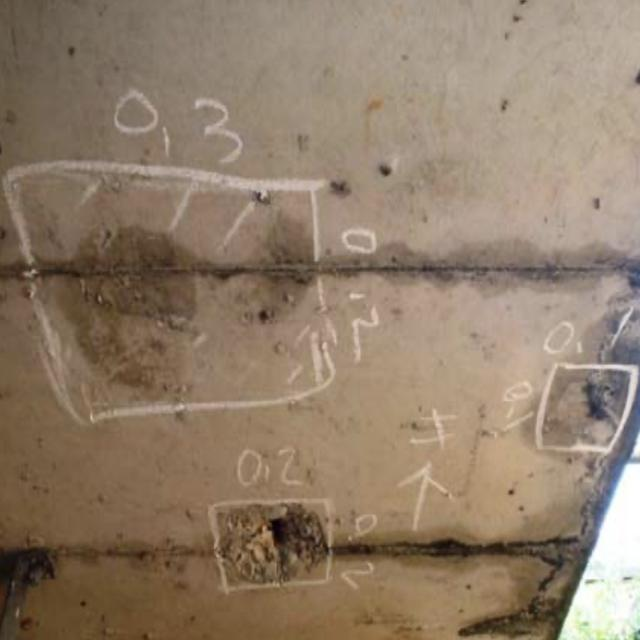leakage: (364, 497, 580, 640)
spalling: (41, 206, 306, 406), (193, 467, 330, 596), (547, 354, 632, 456)
